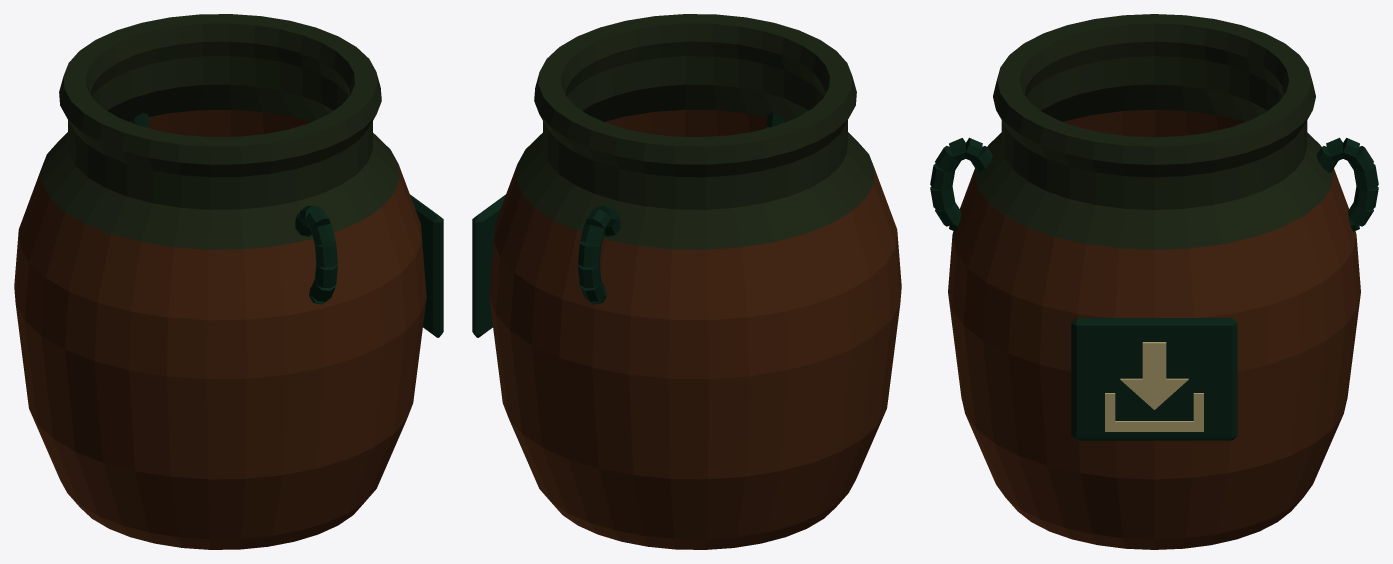
The model's file is SM_ReturnJar_A.fbx.
The picture shows the model from 3 angles, left to right: view 1: azimuth 30°, elevation 25°; view 2: azimuth 150°, elevation 25°; view 3: azimuth 270°, elevation 25°; orthographic projection.
Visible parts, largest first — view 1: SM_ReturnJar_A; view 2: SM_ReturnJar_A; view 3: SM_ReturnJar_A.
Boxes of the visible parts, bbox=[...] form: SM_ReturnJar_A: bbox=[14, 14, 443, 549]; SM_ReturnJar_A: bbox=[472, 14, 901, 549]; SM_ReturnJar_A: bbox=[930, 14, 1378, 549].
Size of what is drawn, in the model's own units: 99.94 by 94.4 by 100.
